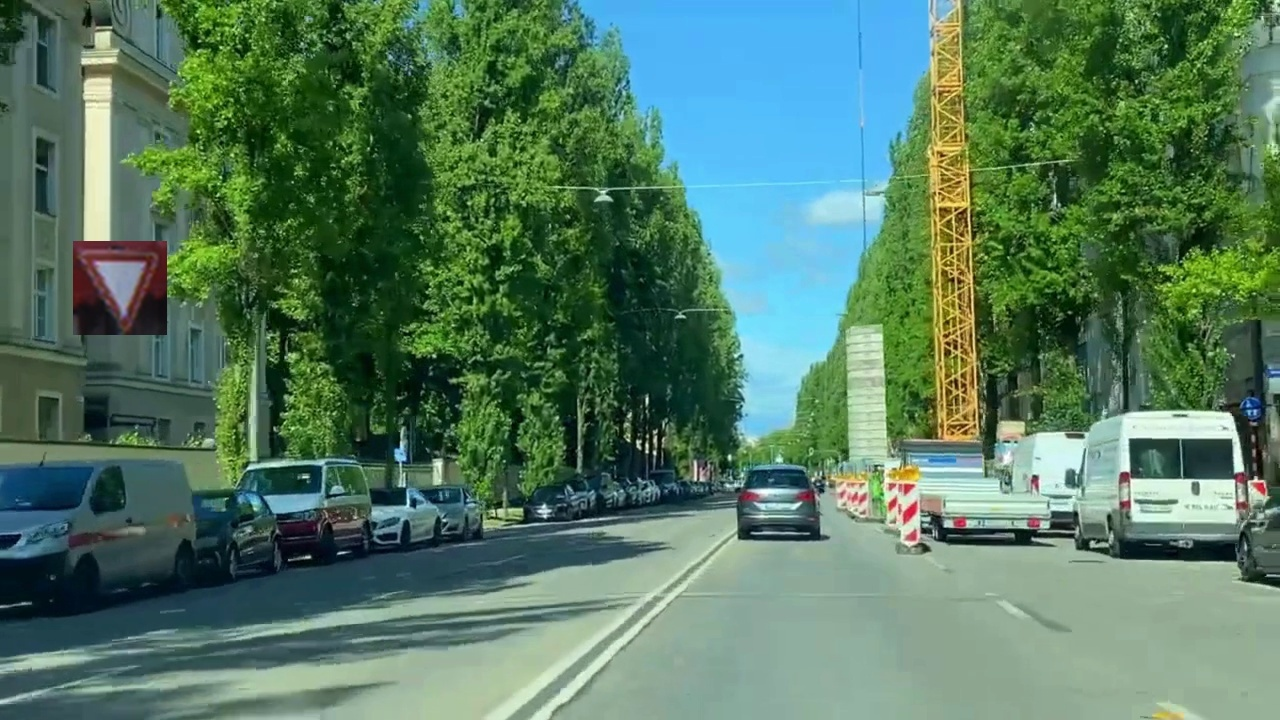Yield: (73, 241, 167, 335)
